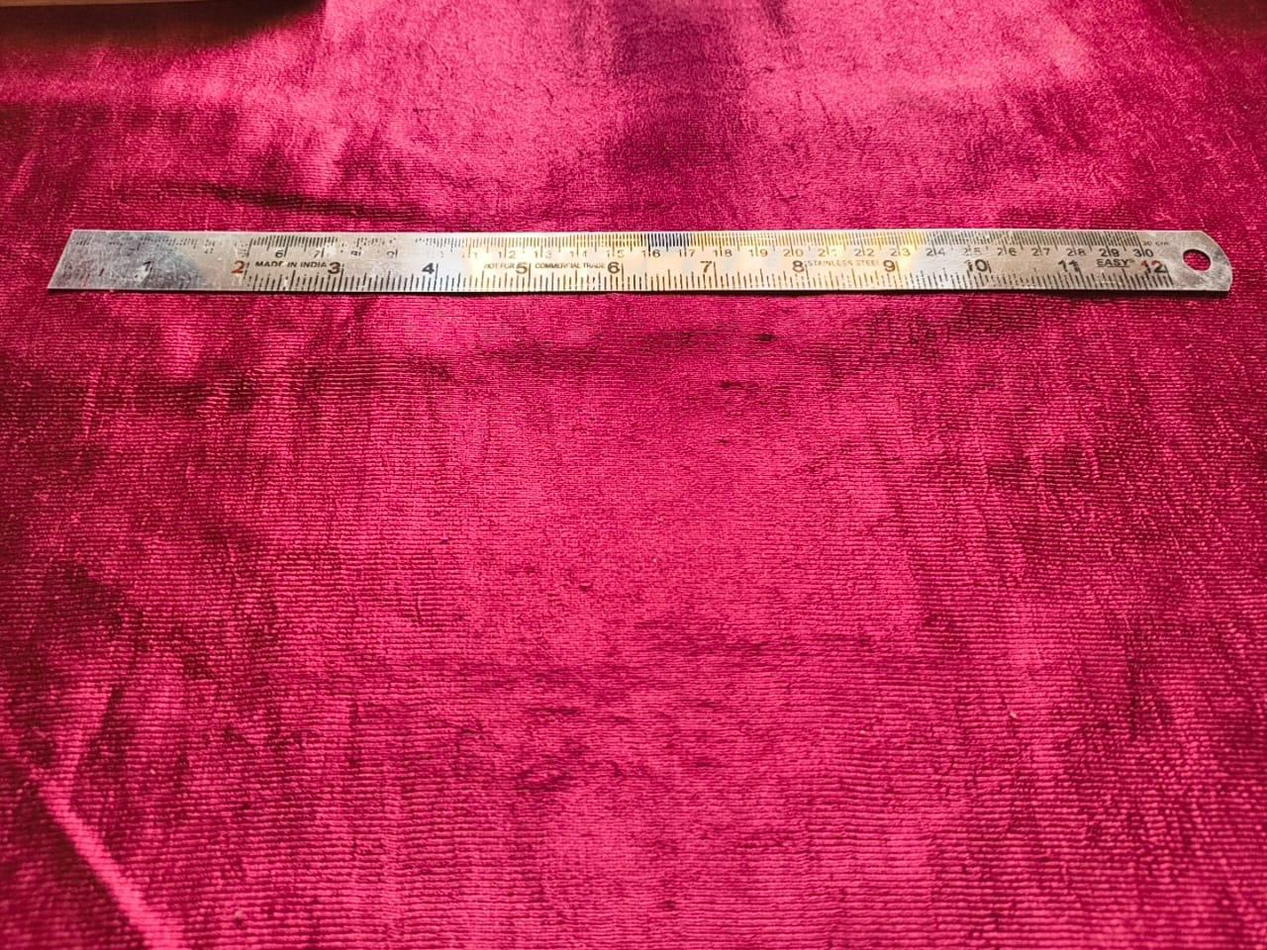scale: (46, 227, 1231, 299)
